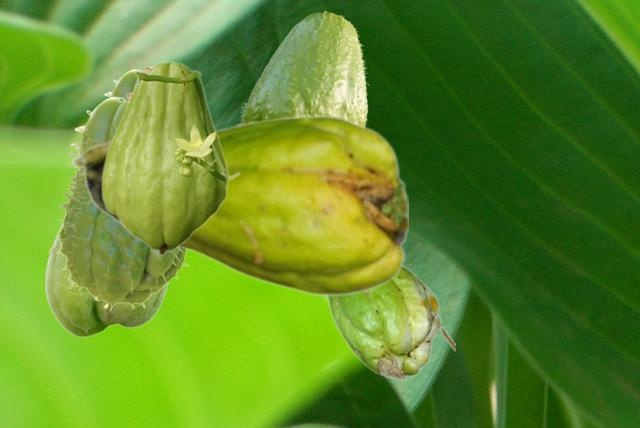sayote: (70, 114, 407, 296), (55, 92, 189, 311), (100, 61, 240, 255), (326, 265, 454, 380), (239, 11, 368, 125), (44, 223, 168, 336), (103, 65, 149, 99)
